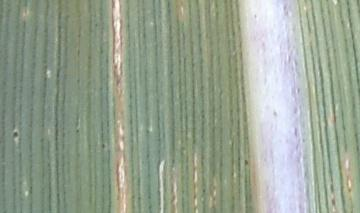tarspot: (291, 104, 300, 117), (293, 125, 299, 138), (11, 130, 19, 139), (330, 197, 336, 208), (251, 12, 258, 21), (295, 86, 301, 96), (271, 110, 278, 118), (243, 158, 249, 167), (168, 69, 175, 76), (100, 142, 106, 150), (144, 127, 150, 135), (74, 128, 80, 135)
